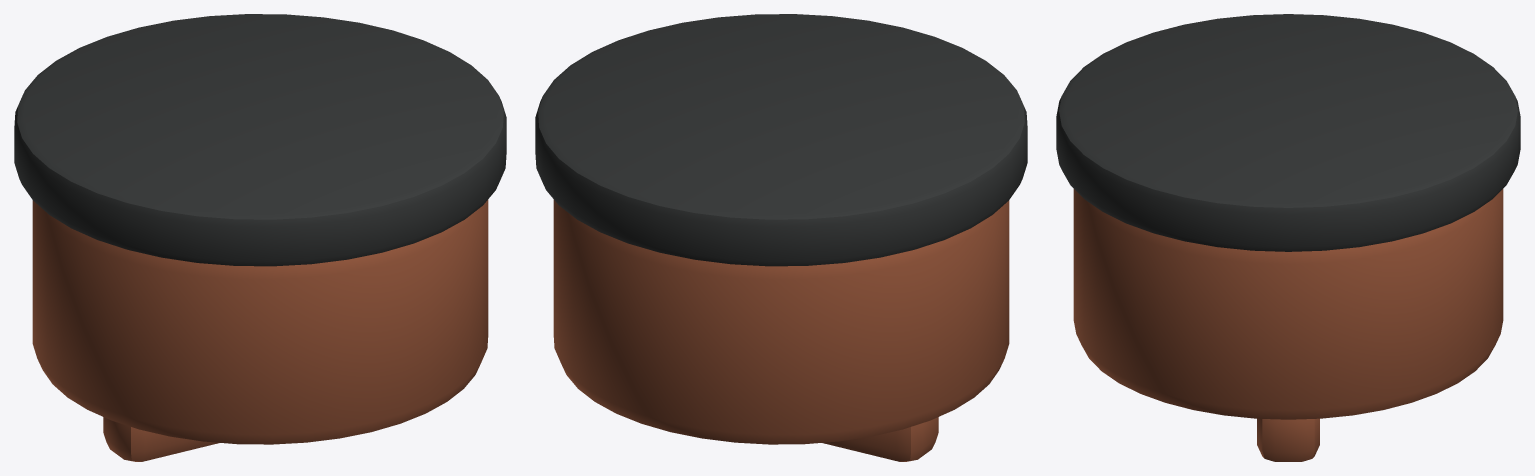
Rendered from built_in_oven_temperature_dial.glb.
3 renders of one model, left to right at view 1: azimuth 30°, elevation 25°; view 2: azimuth 150°, elevation 25°; view 3: azimuth 270°, elevation 25°, orthographic. The views are drawn at different scales.
Visible parts, largest first — view 1: built_in_oven_temperature_dial_x; view 2: built_in_oven_temperature_dial_x; view 3: built_in_oven_temperature_dial_x.
Boxes of the visible parts, bbox=[...] form: built_in_oven_temperature_dial_x: bbox=[14, 14, 506, 461]; built_in_oven_temperature_dial_x: bbox=[535, 14, 1027, 461]; built_in_oven_temperature_dial_x: bbox=[1056, 14, 1520, 461].
Bounding box in the file's own units: 0.0518 × 0.036 × 0.0518.
